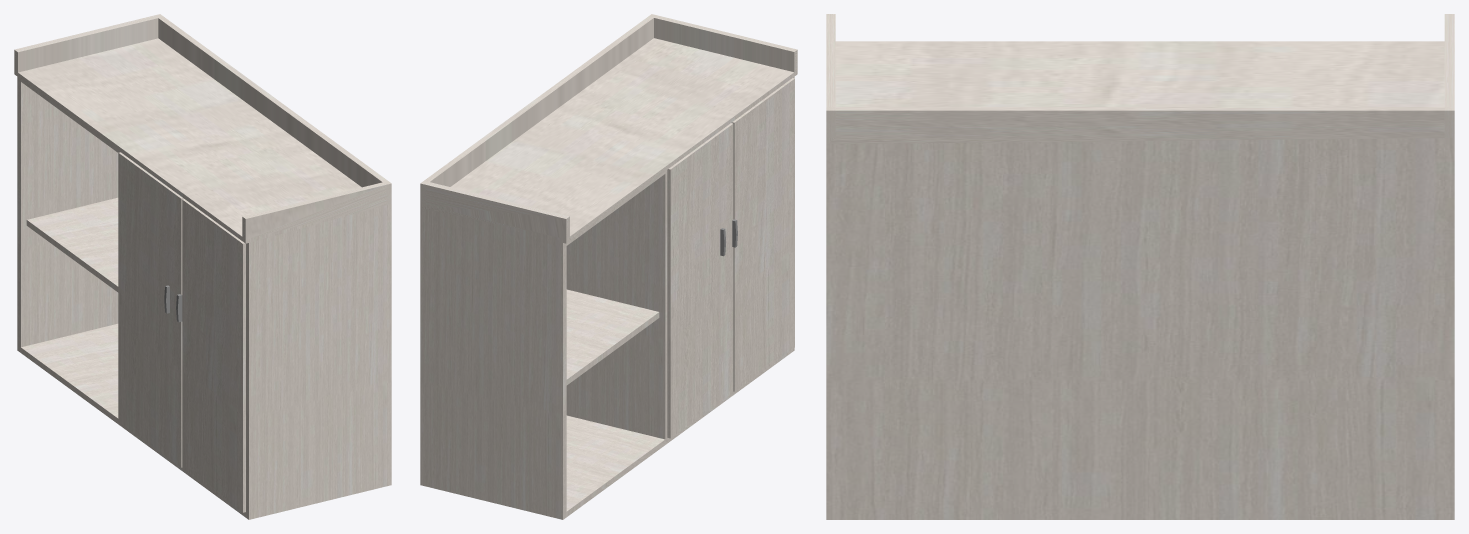
The model's file is CK-guizi0002-CJBZ.FBX.
The picture shows the model from 3 angles, left to right: view 1: azimuth 30°, elevation 25°; view 2: azimuth 150°, elevation 25°; view 3: azimuth 270°, elevation 25°; orthographic projection. The views are drawn at different scales.
Visible parts, largest first — view 1: CK-guizi0002-CJBZ; view 2: CK-guizi0002-CJBZ; view 3: CK-guizi0002-CJBZ.
Boxes of the visible parts, x1,y1,x2,y2 form: CK-guizi0002-CJBZ: (14, 14, 391, 519); CK-guizi0002-CJBZ: (420, 14, 797, 519); CK-guizi0002-CJBZ: (826, 14, 1454, 519).
Size of the model in its own units: 0.676 by 1.3 by 1.81.
Materials: 2 (1 with a texture image).
